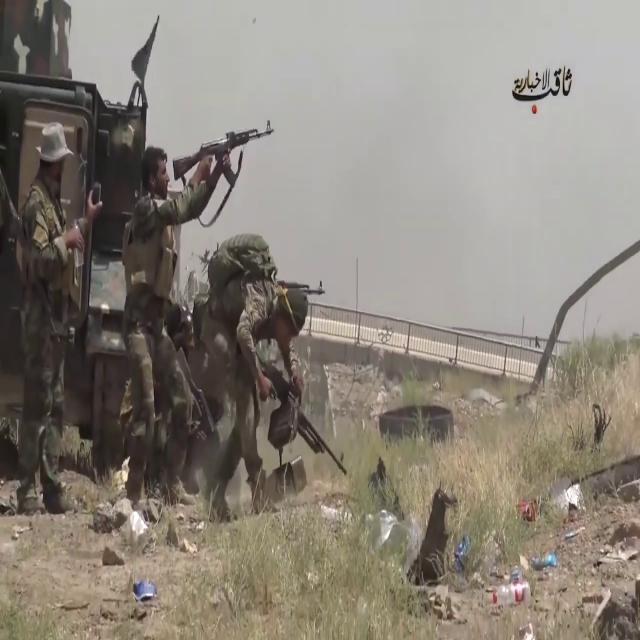long weapon: (254, 350, 347, 483), (168, 113, 280, 211), (172, 342, 227, 468)
